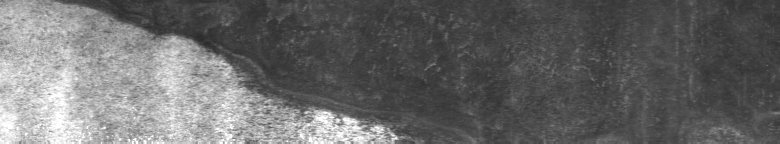kb: (78, 4, 447, 136)
